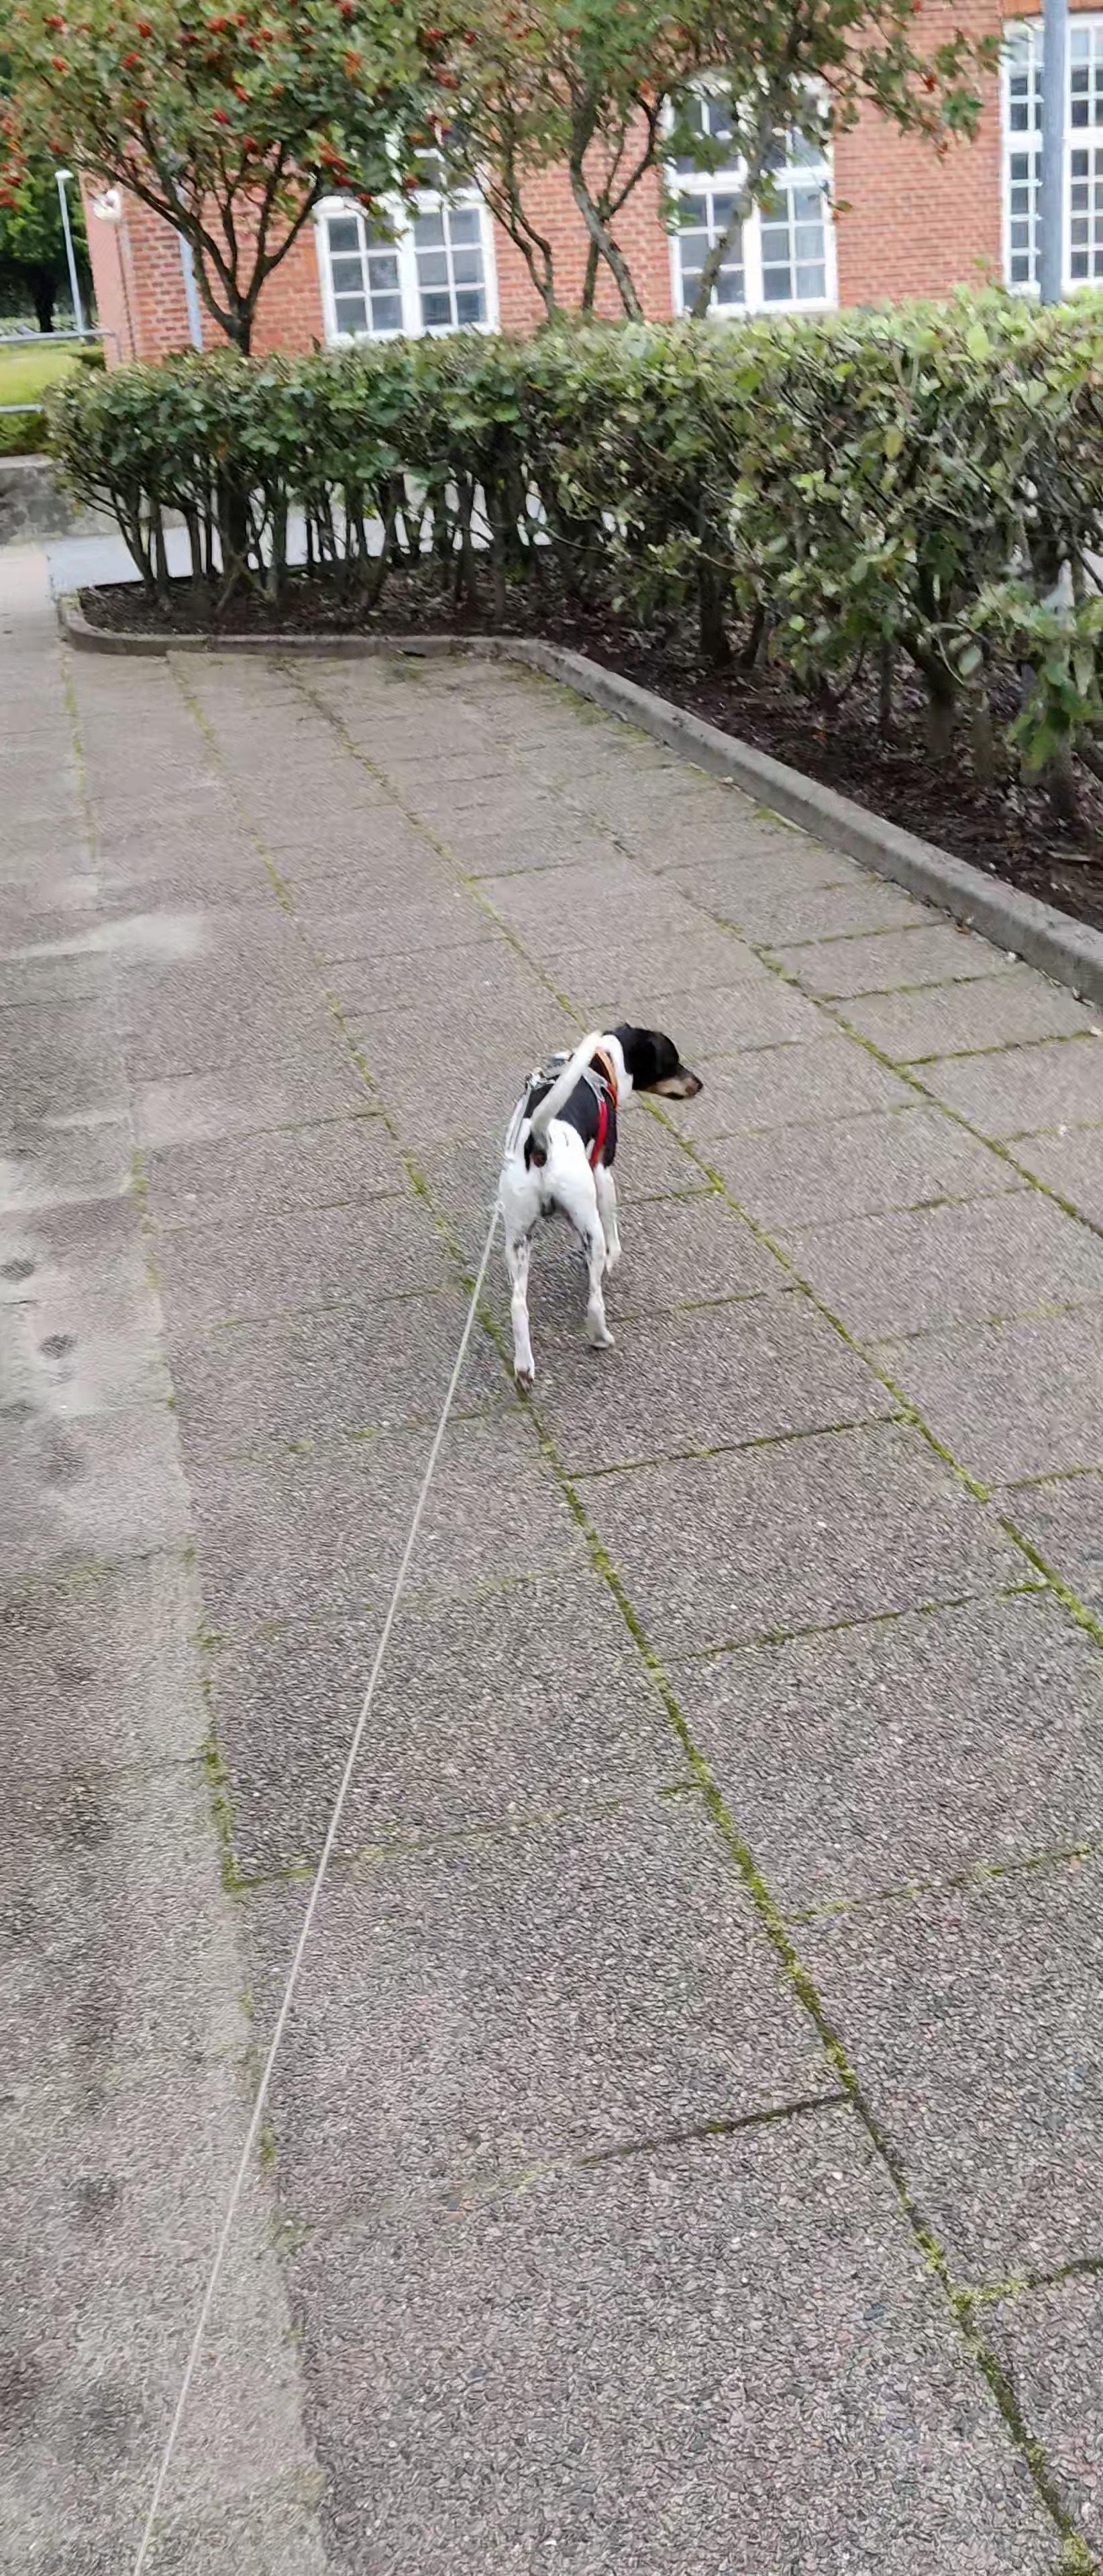Dog: (483, 1015, 715, 1405)
